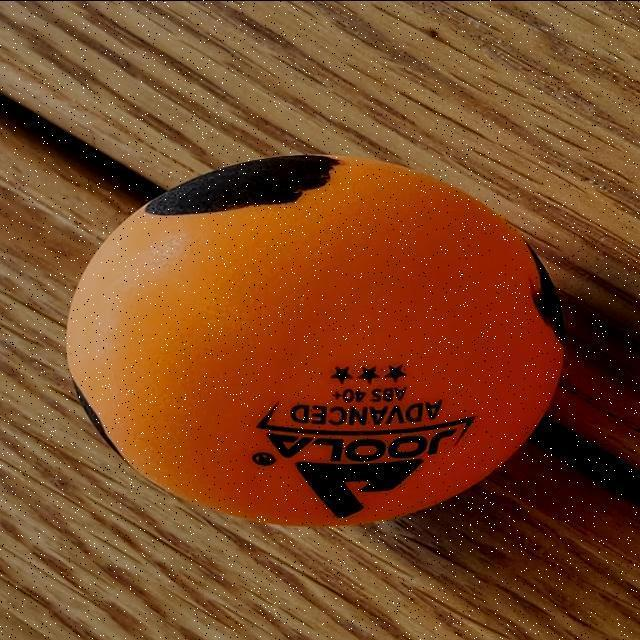ping-pong-ball: (54, 137, 582, 535)
